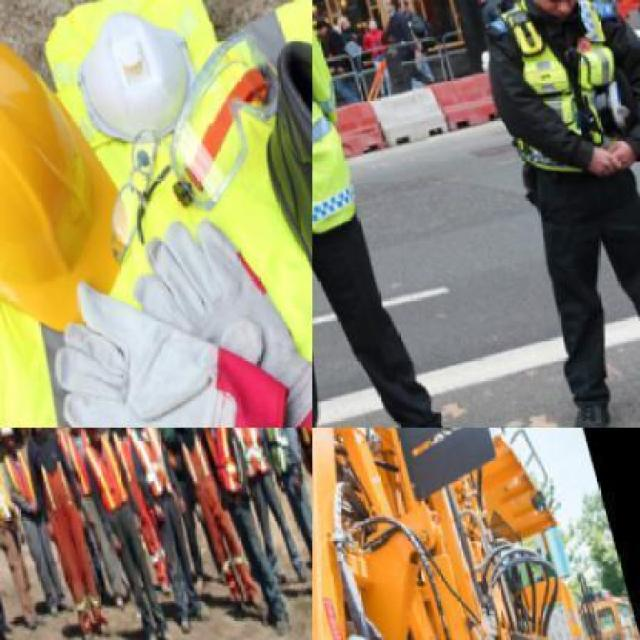Vest: (0, 0, 311, 426), (491, 0, 638, 186), (312, 0, 383, 263), (74, 434, 131, 521), (120, 428, 180, 502), (196, 428, 247, 497), (0, 444, 42, 522), (220, 428, 277, 482), (249, 428, 302, 474), (0, 457, 17, 532), (282, 428, 310, 469)
